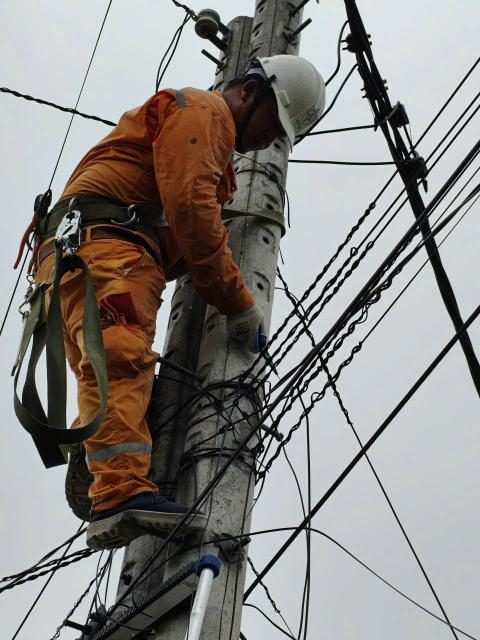gloves: (208, 296, 271, 354)
harness: (29, 177, 161, 253)
helmet: (259, 35, 349, 147)
shoes: (93, 479, 212, 548), (46, 429, 120, 516)
